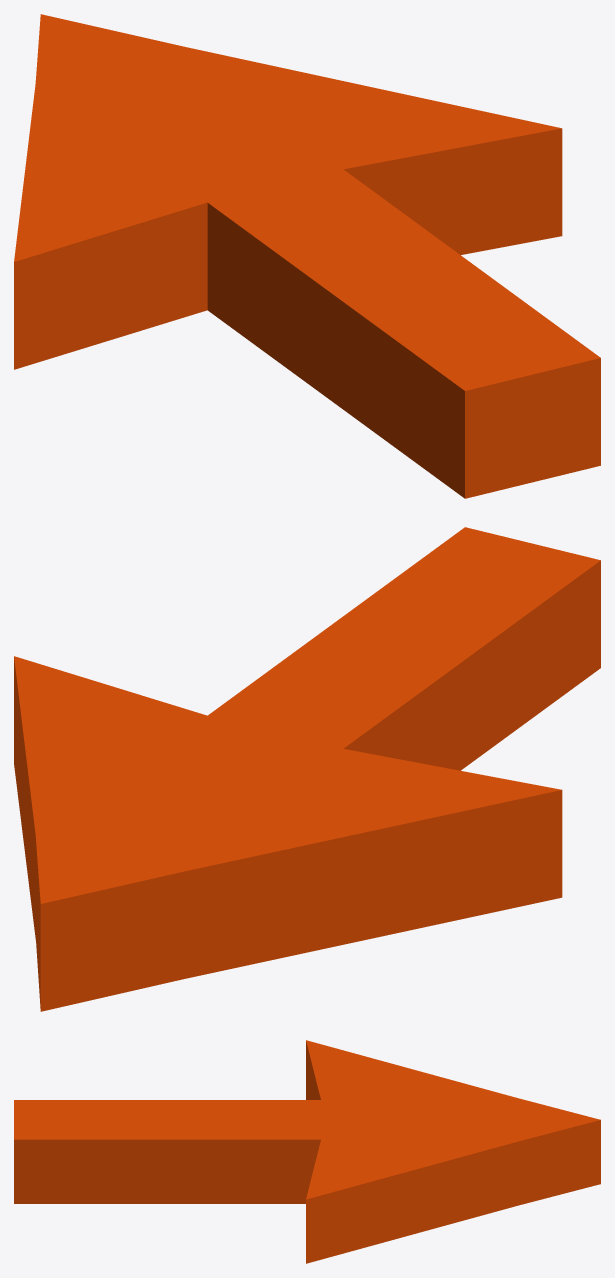
Rendered from Arrow.fbx.
3 renders of one model, top to bottom at view 1: azimuth 30°, elevation 25°; view 2: azimuth 150°, elevation 25°; view 3: azimuth 270°, elevation 25°, orthographic. The views are drawn at different scales.
Visible parts, largest first — view 1: Arrow:pCube3; view 2: Arrow:pCube3; view 3: Arrow:pCube3.
Boxes of the visible parts, <box> form: Arrow:pCube3: <box>14,14,600,498</box>; Arrow:pCube3: <box>14,527,600,1011</box>; Arrow:pCube3: <box>14,1040,600,1263</box>.
Bounding box in the file's own units: 12.75 × 2.39 × 19.82.
